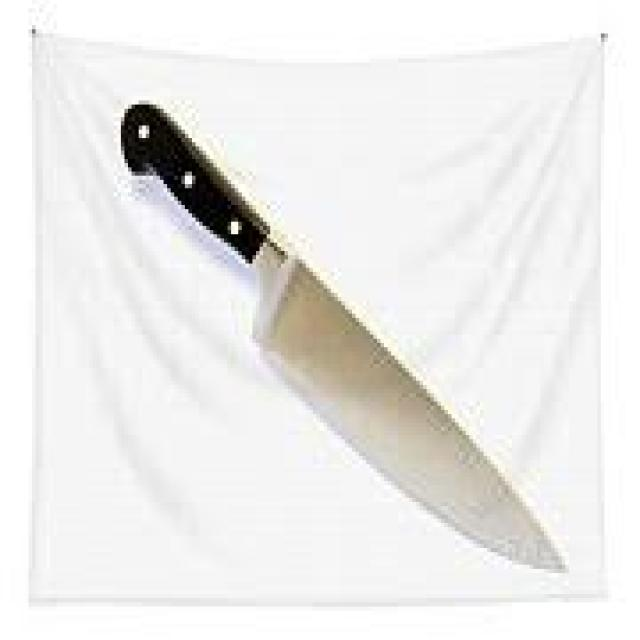Knife: (118, 96, 566, 573)
